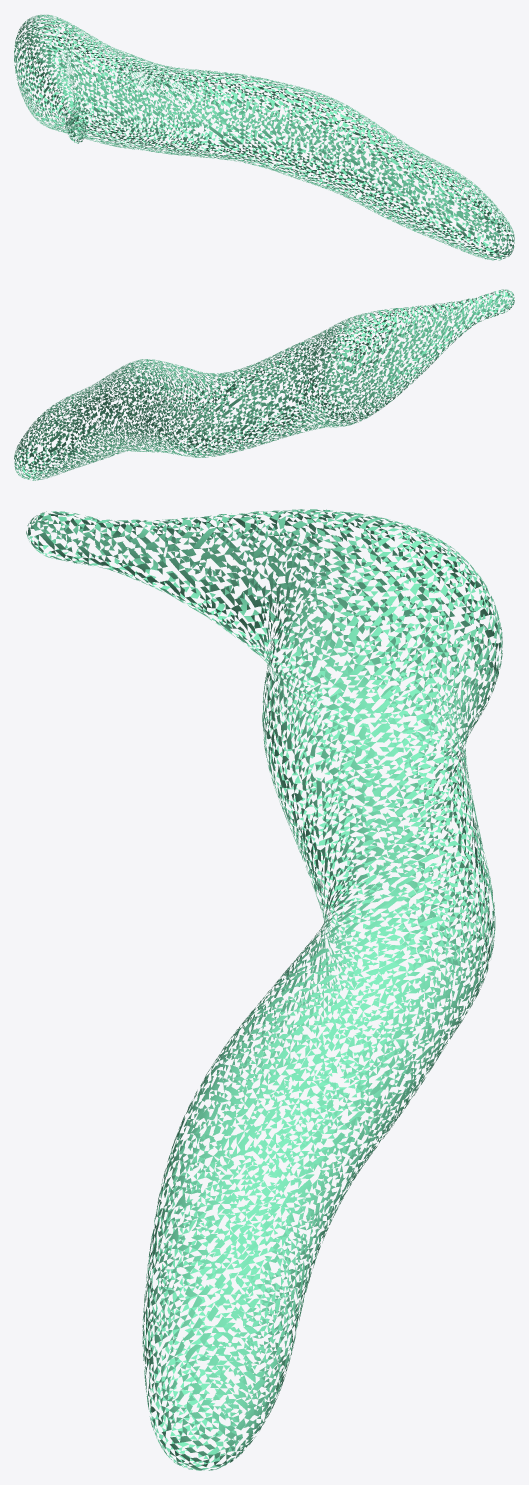
The model's file is healthy.glb.
3 views of the same model, one above another, from view 1: azimuth 30°, elevation 25°; view 2: azimuth 150°, elevation 25°; view 3: azimuth 270°, elevation 25° (orthographic). The views are drawn at different scales.
Bounding box in the file's own units: 101 × 60.34 × 45.5.
